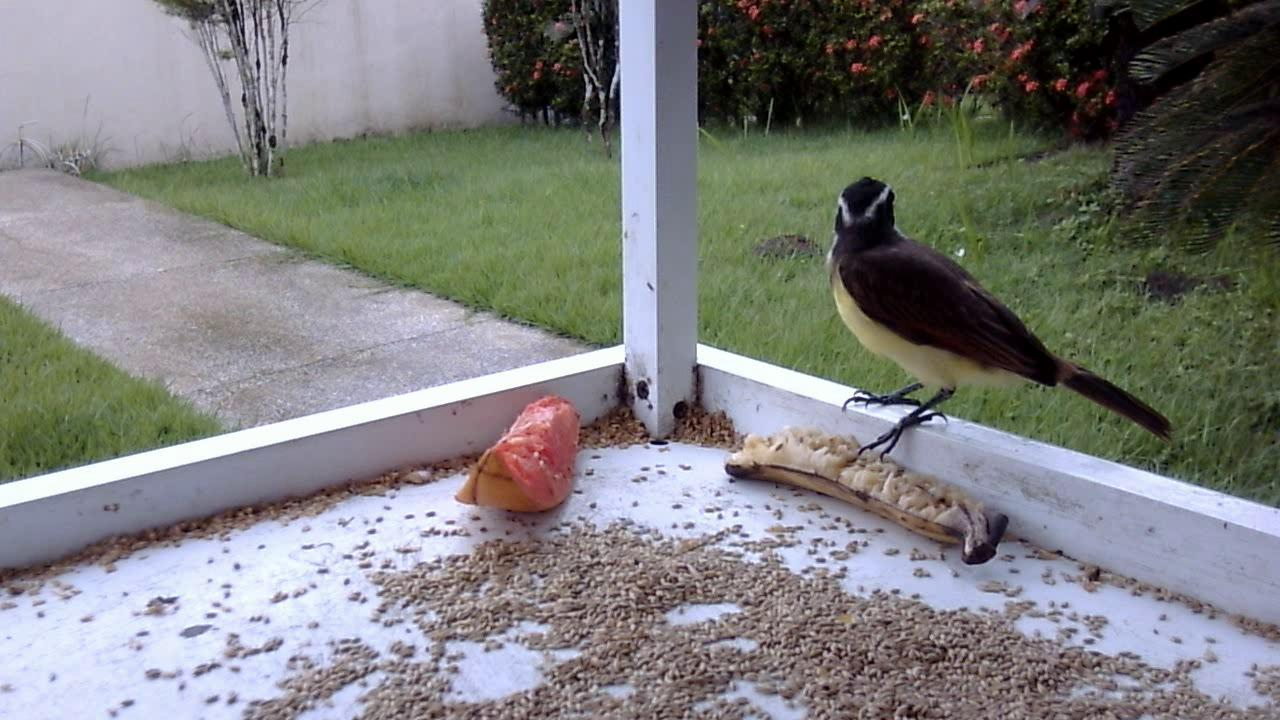bem_te_vi: (808, 174, 1181, 482)
